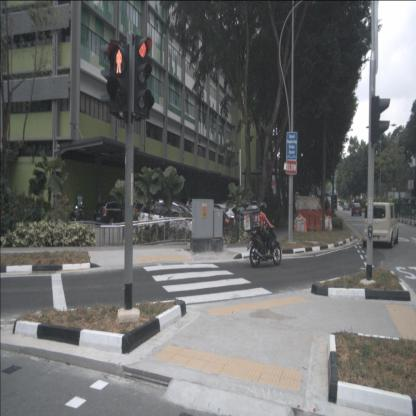barrier: (297, 210, 322, 231), (326, 209, 332, 222)
cone: (327, 216, 331, 232), (304, 219, 308, 233), (294, 219, 297, 232)
